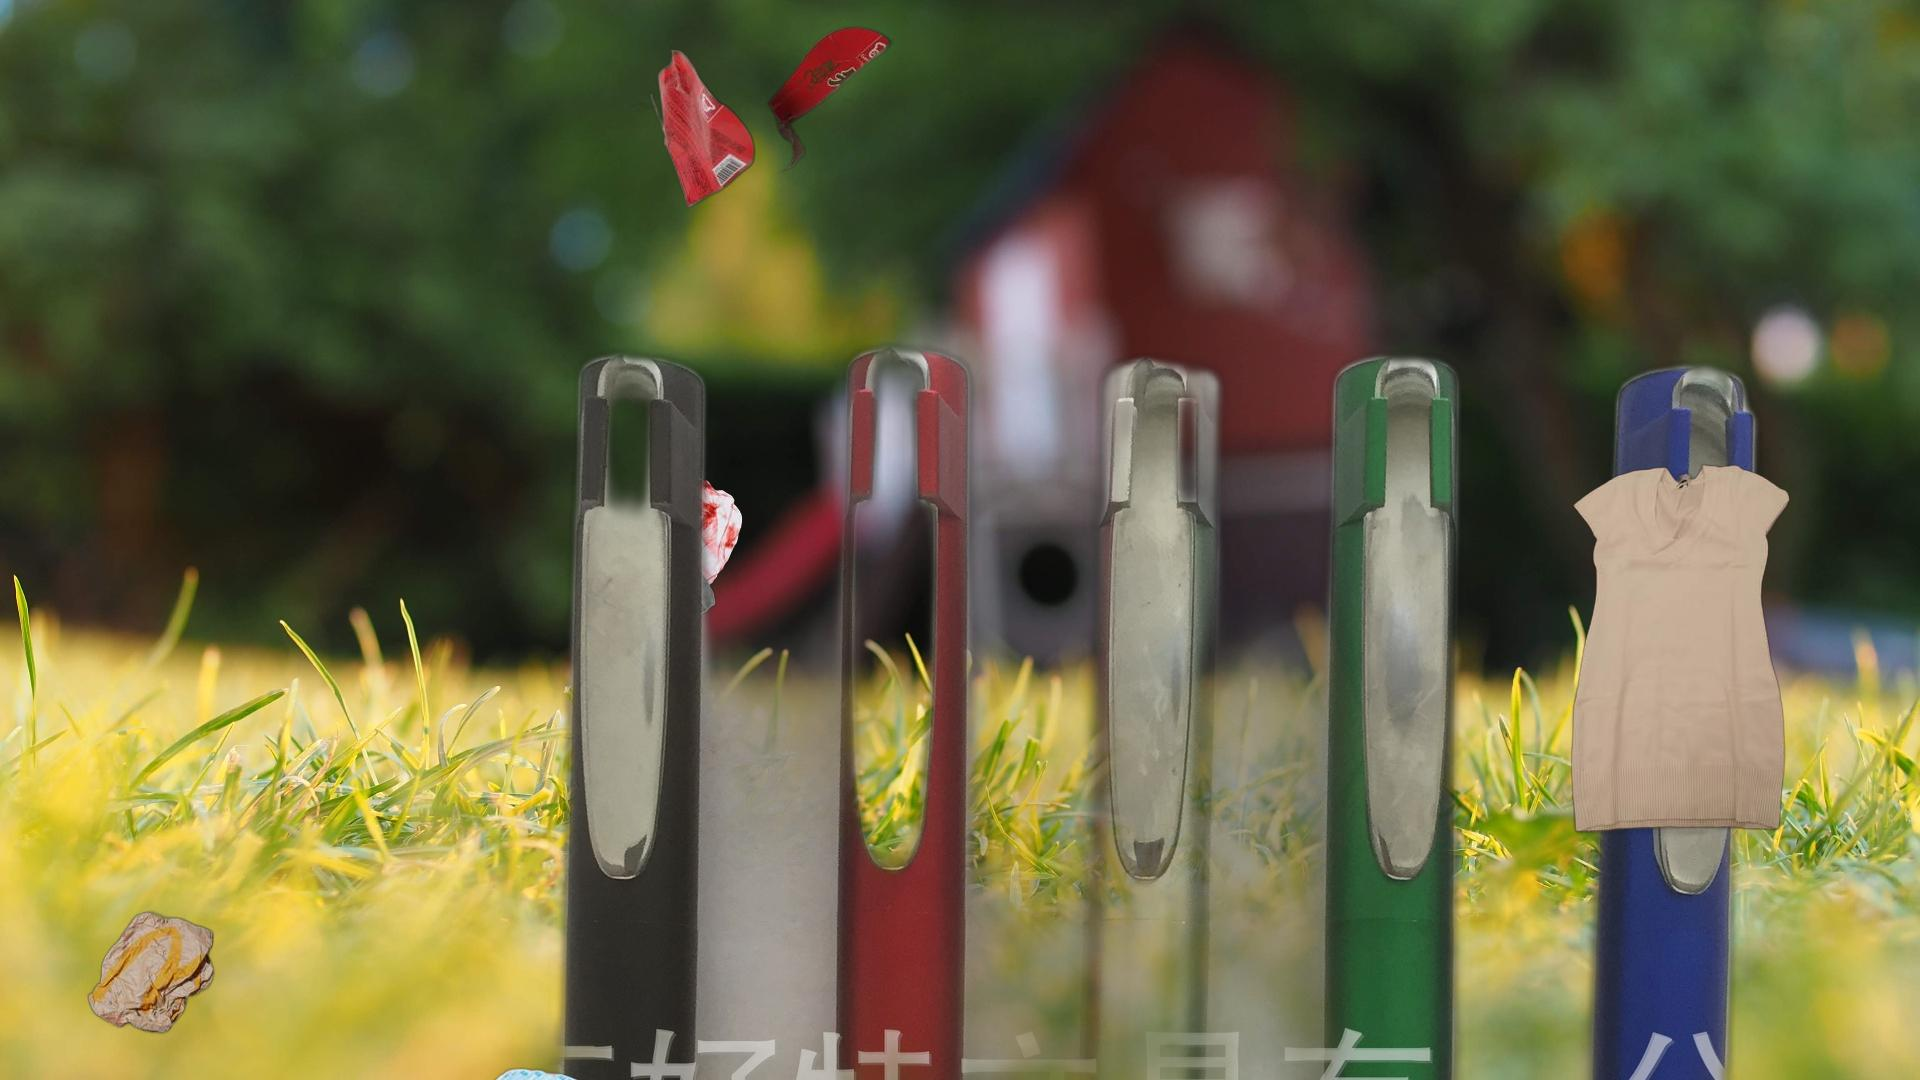clothes: (1568, 462, 1793, 841)
paper: (629, 22, 895, 211)
paper-bag: (86, 909, 218, 1036)
penholder: (476, 328, 1920, 1080)
plastic-bag: (603, 472, 745, 637)
trash: (425, 1067, 673, 1080)
